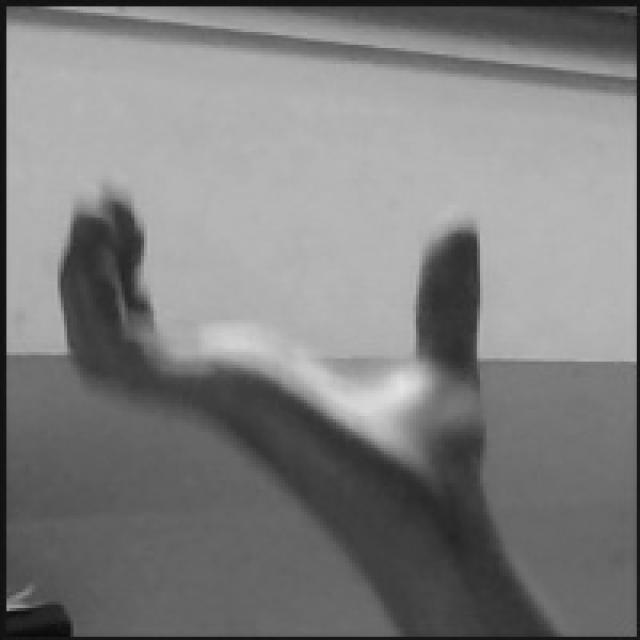space: (56, 183, 484, 538)
